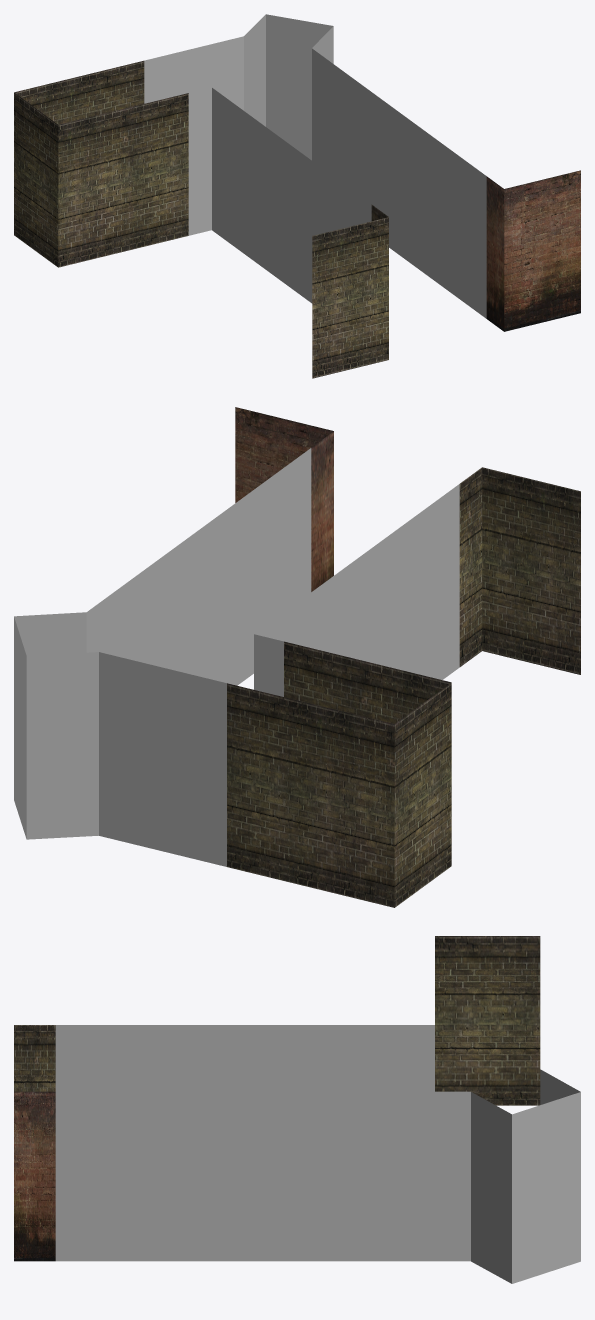
File: Alley_04_Top.fbx
The picture shows the model from 3 angles, top to bottom: view 1: azimuth 30°, elevation 25°; view 2: azimuth 150°, elevation 25°; view 3: azimuth 270°, elevation 25°; orthographic projection. The views are drawn at different scales.
Parts seen in each view (by area): view 1: Alley_04_Top; view 2: Alley_04_Top; view 3: Alley_04_Top.
Part boxes in pixels (x1,y1,x2,y2): Alley_04_Top: [14, 14, 580, 378]; Alley_04_Top: [14, 407, 580, 907]; Alley_04_Top: [14, 936, 580, 1283].
Bounding box in the file's own units: 900 × 356 × 1077.
